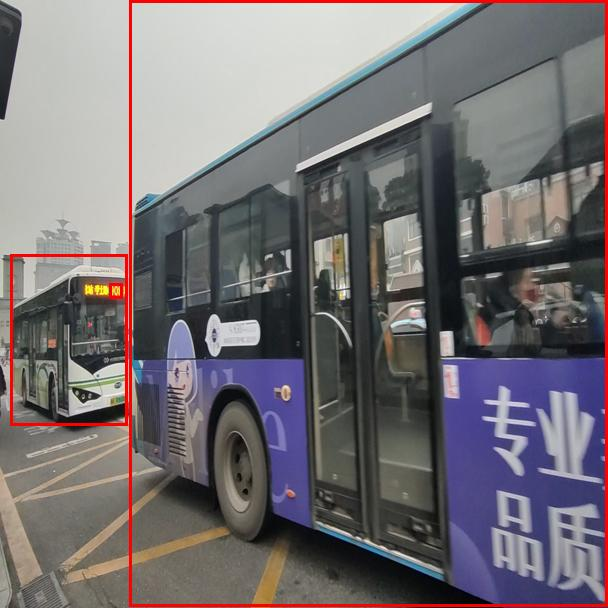bus: (129, 0, 607, 606), (10, 254, 127, 425)
screen: (109, 283, 122, 298)
